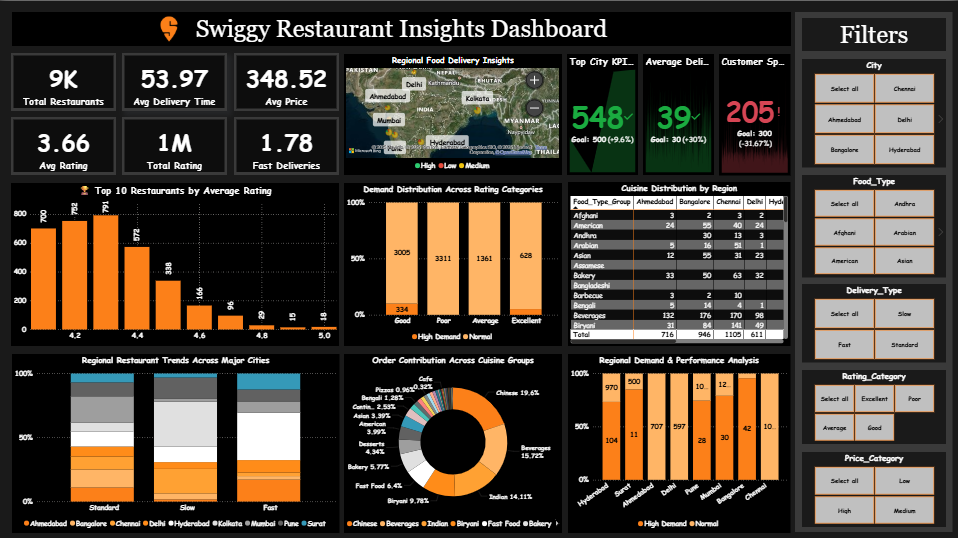

The page's visual inventory and layout, read from the dashboard file:
{"tool":"powerbi","page":{"name":"Page 1","canvas":[1920,1080],"ordinal":0},"visuals":[{"type":"textbox","box":[25,22.5,1557.5,67.5],"z":0},{"type":"cardVisual","fields":{"Data":["Swiggy_Data.Total Restaurants"]},"box":[23.9,104.3,210,115.7],"z":1000},{"type":"cardVisual","fields":{"Data":["Swiggy_Data.Avg Delivery Time"]},"box":[246.8,104.3,210,115.7],"z":2000},{"type":"cardVisual","fields":{"Data":["Swiggy_Data.Avg Rating"]},"box":[23.9,231.4,210,115.7],"z":3000},{"type":"cardVisual","fields":{"Data":["Swiggy_Data.Total Rating"]},"box":[246.8,231.4,210,115.7],"z":4000},{"type":"cardVisual","fields":{"Data":["Swiggy_Data.Fast Deliveries"]},"box":[469.6,231.4,210,115.7],"z":5000},{"type":"columnChart","title":"🏆 Top 10 Restaurants by Average Rating","fields":{"Category":["Swiggy_Data.Average Rating"],"Y":["CountNonNull(Swiggy_Data.Restaurant_Name)"]},"box":[24.5,364,656,326],"z":6000},{"type":"map","title":"Regional Food Delivery Insights","fields":{"Category":["Swiggy_Data.City"],"Series":["Swiggy_Data.Price_Category"],"Size":["CountNonNull(Swiggy_Data.Order_ID)"]},"box":[690.5,106,436,242],"z":7000},{"type":"hundredPercentStackedColumnChart","title":"Demand Distribution Across Rating Categories","fields":{"Category":["Swiggy_Data.Rating_Category"],"Y":["CountNonNull(Swiggy_Data.Order_ID)"],"Series":["Swiggy_Data.Demand_Category"]},"box":[690.5,364,436,326],"z":8000},{"type":"hundredPercentStackedColumnChart","title":"Regional Restaurant Trends Across Major Cities","fields":{"Category":["Swiggy_Data.Delivery_Category"],"Y":["CountNonNull(Swiggy_Data.Order_ID)"],"Series":["Swiggy_Data.Region_Group"]},"box":[25,705,655,357.5],"z":9000},{"type":"shape","box":[1592.5,22.5,315,1040],"z":10000},{"type":"donutChart","title":"Order Contribution Across Cuisine Groups","fields":{"Y":["CountNonNull(Swiggy_Data.Food type)"],"Category":["Swiggy_Data.Food_Type_Group"]},"box":[690,706,436,358],"z":11000},{"type":"kpi","title":"Top City KPI (Count vs Target)","fields":{"Indicator":["Swiggy_Data.Top_City_RestaurantCount"],"Goal":["Swiggy_Data.Target_RestaurantCount"],"TrendLine":["Swiggy_Data.Rating_Category"]},"box":[1136,106,142,242],"z":12000},{"type":"pivotTable","title":"Cuisine Distribution by Region","fields":{"Values":["CountNonNull(Swiggy_Data.Food type)"],"Rows":["Swiggy_Data.Food_Type_Group"],"Columns":["Swiggy_Data.Region_Group"]},"box":[1137.5,362.5,445,327.5],"z":13000},{"type":"hundredPercentStackedColumnChart","title":"Regional Demand & Performance Analysis","fields":{"Category":["Swiggy_Data.Region_Group"],"Y":["Swiggy_Data.Fast Deliveries"],"Series":["Swiggy_Data.Demand_Category"]},"box":[1138,706,445,358],"z":14000},{"type":"kpi","title":"Average Delivery Time vs SLA by Category","fields":{"Indicator":["Avg(Swiggy_Data.Delivery time (mins))"],"TrendLine":["Swiggy_Data.Area"],"Goal":["Swiggy_Data.TargetDeliveryTime"]},"box":[1288,106,142,242],"z":16000},{"type":"kpi","title":"Customer Spend per Order","fields":{"TrendLine":["Swiggy_Data.Area"],"Goal":["Swiggy_Data.TargetAOV"],"Indicator":["Swiggy_Data.Avg Price"]},"box":[1440,105,142.5,242.5],"z":17000},{"type":"textbox","box":[1606,34,288,66],"z":18000},{"type":"slicer","title":"City","fields":{"Values":["Swiggy_Data.City"]},"box":[1606.7,116.7,288.3,216.7],"z":19000},{"type":"cardVisual","fields":{"Data":["Swiggy_Data.Avg Price"]},"box":[470,103.8,210,116.2],"z":20000},{"type":"slicer","title":"Food_Type","fields":{"Values":["Swiggy_Data.Food_Type_Group"]},"box":[1606.7,348.3,288.3,205],"z":21000},{"type":"slicer","title":"Delivery_Type","fields":{"Values":["Swiggy_Data.Delivery_Category"]},"box":[1606.7,566.7,288.3,156.7],"z":22000},{"type":"slicer","title":"Rating_Category","fields":{"Values":["Swiggy_Data.Rating_Category"]},"box":[1606.7,738.3,288.3,148.3],"z":23000},{"type":"slicer","title":"Price_Category","fields":{"Values":["Swiggy_Data.Price_Category"]},"box":[1606.7,901.7,288.3,150],"z":24000},{"type":"image","box":[310,25,60,60],"z":25000}]}

Visuals, with their boxes in screenshot pixels (x1, y1, x2, y2), scaled from the page's 1920x1080 canvas onto the 958x538 screenshot:
textbox: Rect(12, 11, 790, 45)
cardVisual - Swiggy_Data.Total Restaurants: Rect(12, 52, 117, 110)
cardVisual - Swiggy_Data.Avg Delivery Time: Rect(123, 52, 228, 110)
cardVisual - Swiggy_Data.Avg Rating: Rect(12, 115, 117, 173)
cardVisual - Swiggy_Data.Total Rating: Rect(123, 115, 228, 173)
cardVisual - Swiggy_Data.Fast Deliveries: Rect(234, 115, 339, 173)
"🏆 Top 10 Restaurants by Average Rating" columnChart: Rect(12, 181, 340, 344)
"Regional Food Delivery Insights" map: Rect(345, 53, 562, 173)
"Demand Distribution Across Rating Categories" hundredPercentStackedColumnChart: Rect(345, 181, 562, 344)
"Regional Restaurant Trends Across Major Cities" hundredPercentStackedColumnChart: Rect(12, 351, 339, 529)
shape: Rect(795, 11, 952, 529)
"Order Contribution Across Cuisine Groups" donutChart: Rect(344, 352, 562, 530)
"Top City KPI (Count vs Target)" kpi: Rect(567, 53, 638, 173)
"Cuisine Distribution by Region" pivotTable: Rect(568, 181, 790, 344)
"Regional Demand & Performance Analysis" hundredPercentStackedColumnChart: Rect(568, 352, 790, 530)
"Average Delivery Time vs SLA by Category" kpi: Rect(643, 53, 714, 173)
"Customer Spend per Order" kpi: Rect(718, 52, 790, 173)
textbox: Rect(801, 17, 945, 50)
"City" slicer: Rect(802, 58, 946, 166)
cardVisual - Swiggy_Data.Avg Price: Rect(235, 52, 339, 110)
"Food_Type" slicer: Rect(802, 174, 946, 276)
"Delivery_Type" slicer: Rect(802, 282, 946, 360)
"Rating_Category" slicer: Rect(802, 368, 946, 442)
"Price_Category" slicer: Rect(802, 449, 946, 524)
image: Rect(155, 12, 185, 42)
